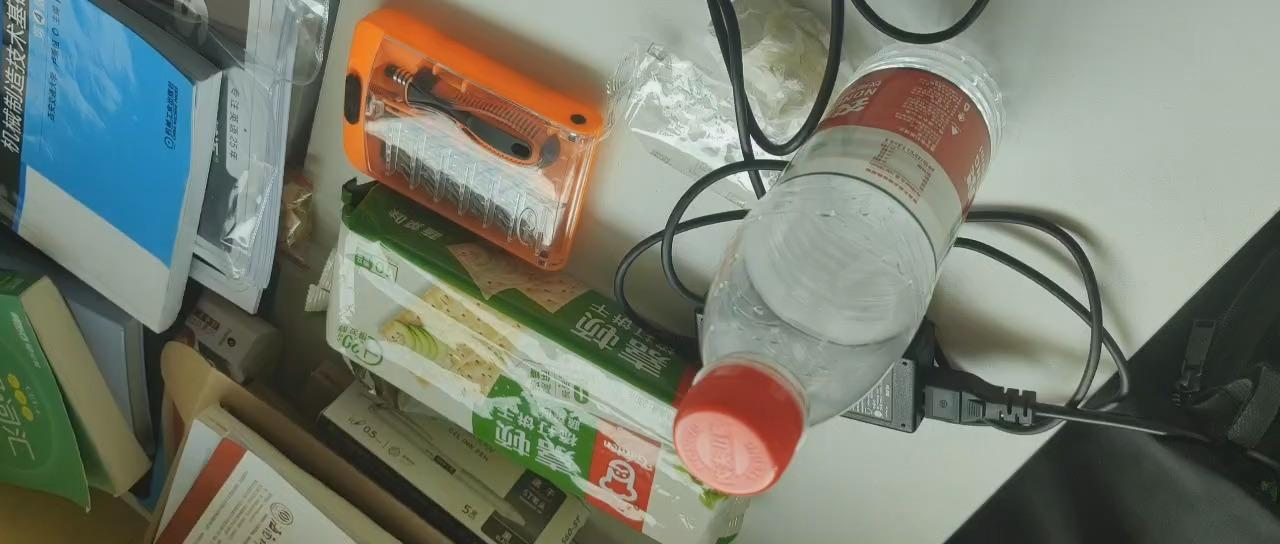BIODEGRADABLE: (673, 44, 1000, 497)
